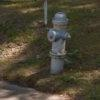a fire hydrant: (48, 12, 72, 74)
